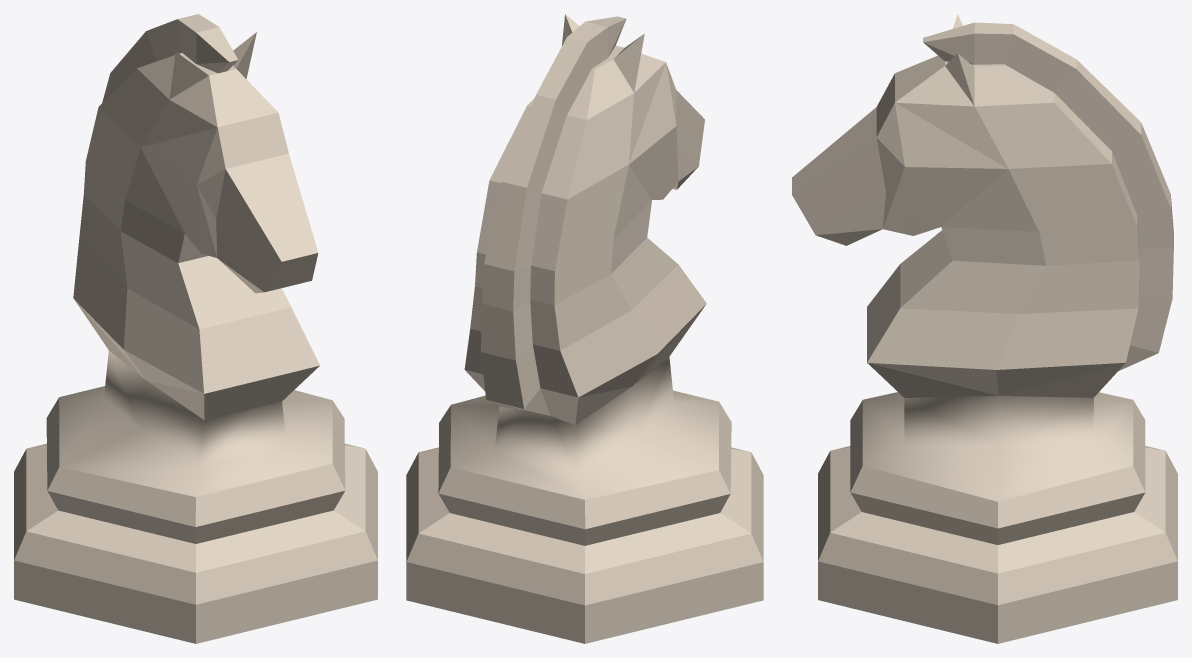
Rendered from KnightLight.fbx.
3 renders of one model, left to right at view 1: azimuth 30°, elevation 25°; view 2: azimuth 150°, elevation 25°; view 3: azimuth 270°, elevation 25°, orthographic.
Visible parts, largest first — view 1: KnightLight; view 2: KnightLight; view 3: KnightLight.
Part boxes in pixels (x1,y1,x2,y2): KnightLight: (14, 14, 377, 643); KnightLight: (406, 14, 763, 643); KnightLight: (792, 14, 1177, 643).
Size of the model in its own units: 89.57 by 126 by 83.16.
